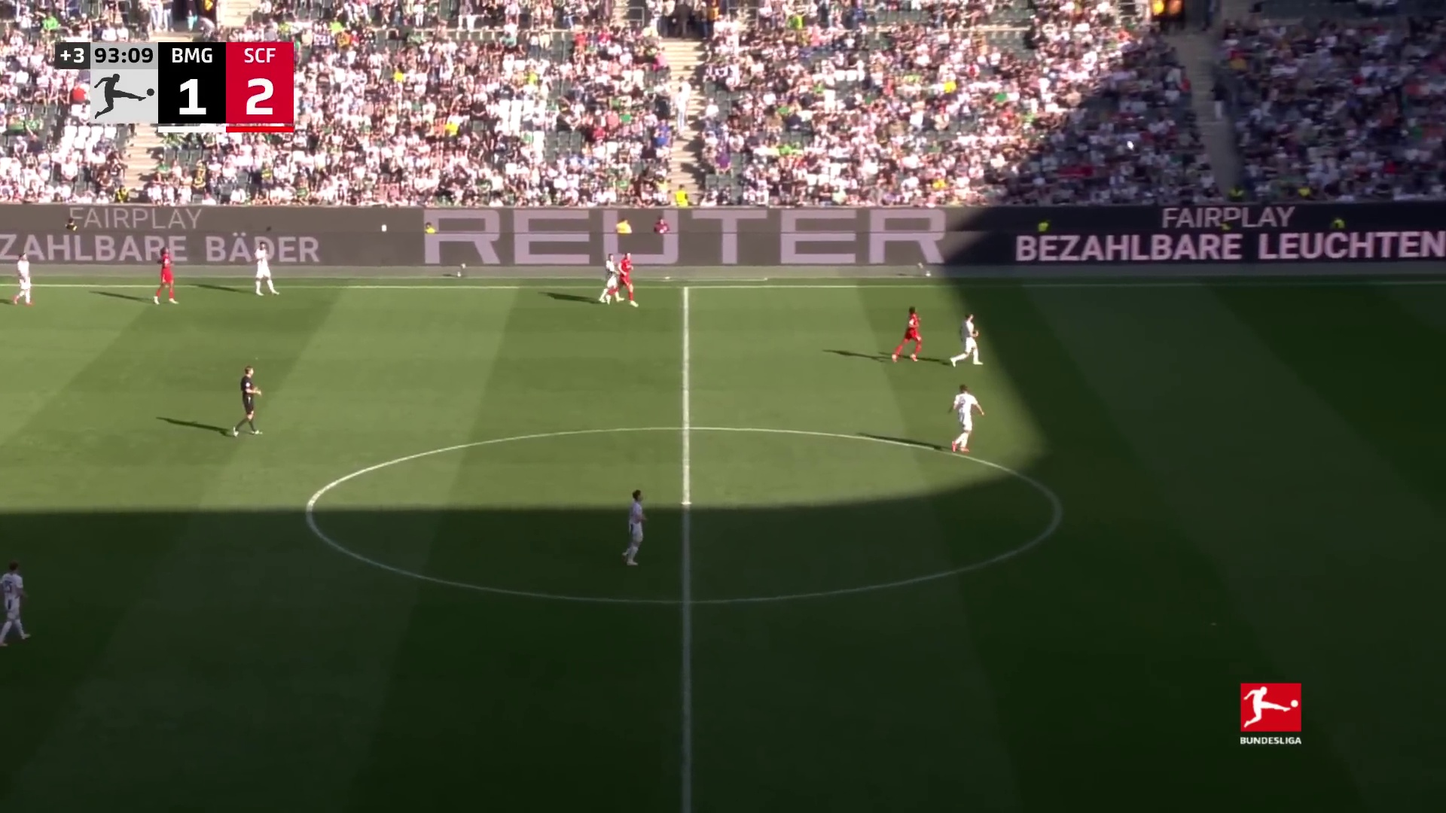player: (944, 383, 988, 457), (0, 560, 34, 649), (617, 487, 653, 568), (889, 304, 928, 365), (149, 242, 184, 309), (948, 311, 987, 370), (249, 239, 283, 299), (605, 252, 640, 308), (10, 251, 38, 308), (598, 252, 625, 303)
referee: (231, 364, 262, 438)
